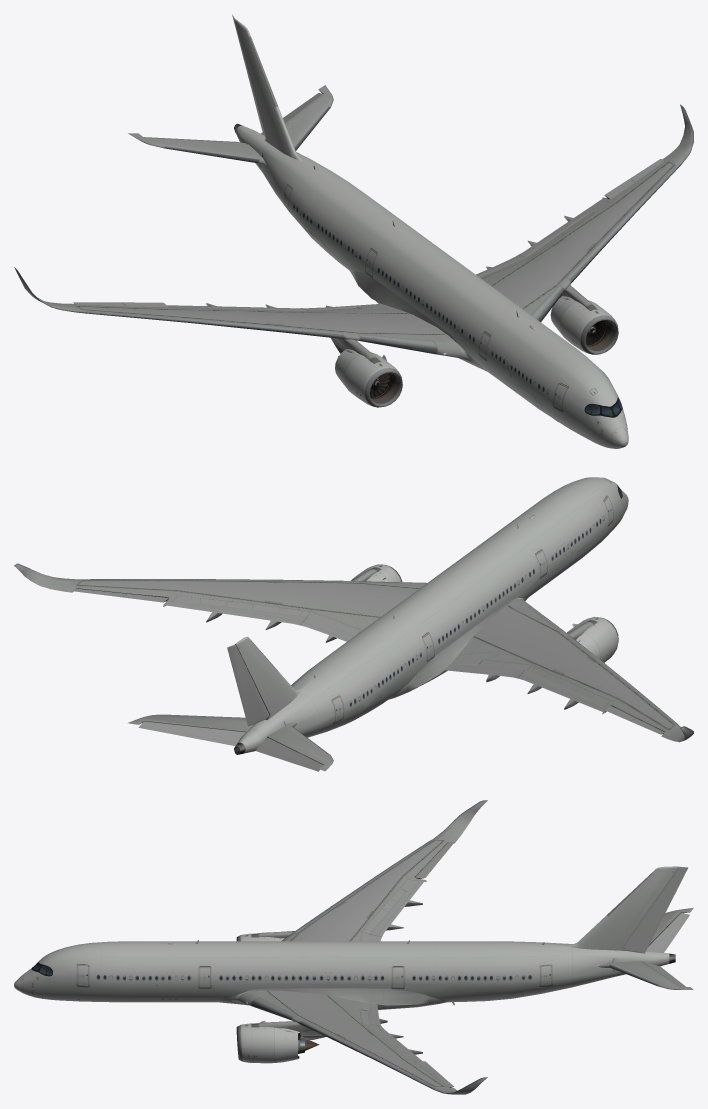
The model's file is Airbus A350-900.glb.
The picture shows the model from 3 angles, top to bottom: view 1: azimuth 30°, elevation 25°; view 2: azimuth 150°, elevation 25°; view 3: azimuth 270°, elevation 25°; orthographic projection. The views are drawn at different scales.
Parts seen in each view (by area): view 1: node_2, node_6, node_13, node_11, node_9; view 2: node_2, node_6, node_13, node_12, node_10, node_4, node_5; view 3: node_2, node_13, node_6, node_10, node_9.
Part boxes in pixels (x1=…): node_2: x1=73, y1=14, x2=664, y2=448; node_6: x1=481, y1=104, x2=693, y2=315; node_13: x1=14, y1=267, x2=463, y2=358; node_11: x1=86, y1=311, x2=344, y2=338; node_9: x1=568, y1=167, x2=676, y2=282; node_2: x1=73, y1=477, x2=664, y2=771; node_6: x1=14, y1=563, x2=426, y2=631; node_13: x1=451, y1=598, x2=693, y2=742; node_12: x1=166, y1=601, x2=307, y2=625; node_10: x1=518, y1=670, x2=605, y2=711; node_4: x1=444, y1=663, x2=524, y2=678; node_5: x1=301, y1=617, x2=355, y2=641; node_2: x1=14, y1=842, x2=693, y2=1087; node_13: x1=284, y1=800, x2=487, y2=941; node_6: x1=237, y1=990, x2=487, y2=1094; node_10: x1=369, y1=880, x2=424, y2=936; node_9: x1=299, y1=1020, x2=429, y2=1087.
Bounding box in the file's own units: 64.74 × 16.51 × 67.11.
3 materials, 3 textured.
